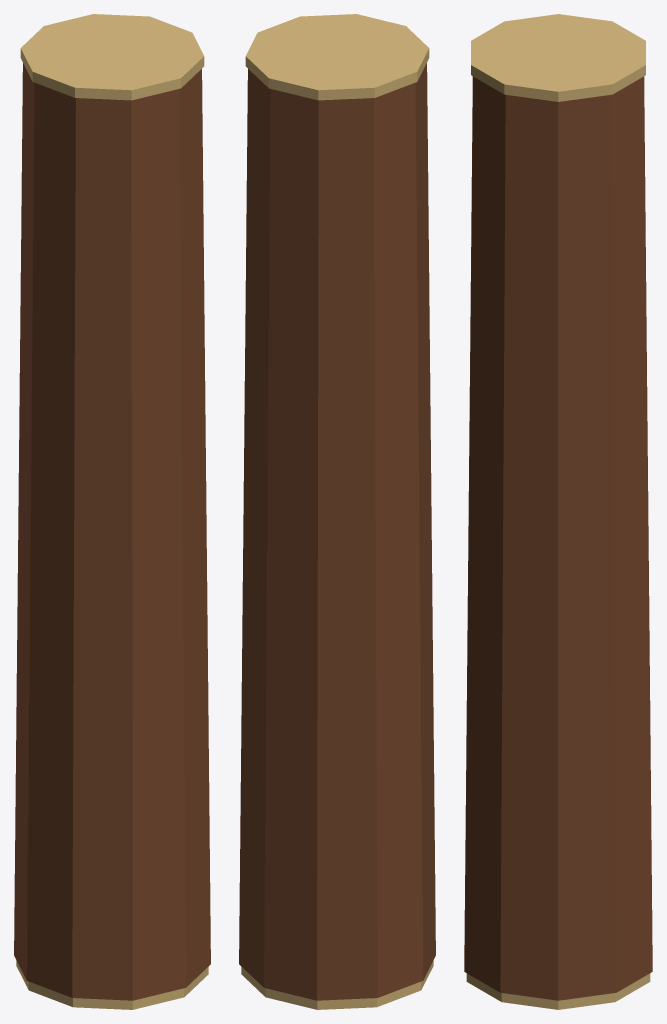
The model's file is log.glb.
3 renders of one model, left to right at view 1: azimuth 30°, elevation 25°; view 2: azimuth 150°, elevation 25°; view 3: azimuth 270°, elevation 25°, orthographic.
Visible parts, largest first — view 1: log; view 2: log; view 3: log.
Boxes of the visible parts, x1,y1,x2,y2 form: log: [14, 14, 210, 1009]; log: [239, 14, 435, 1009]; log: [464, 14, 652, 1009].
Bounding box in the file's own units: 0.44 × 2.25 × 0.4185.
